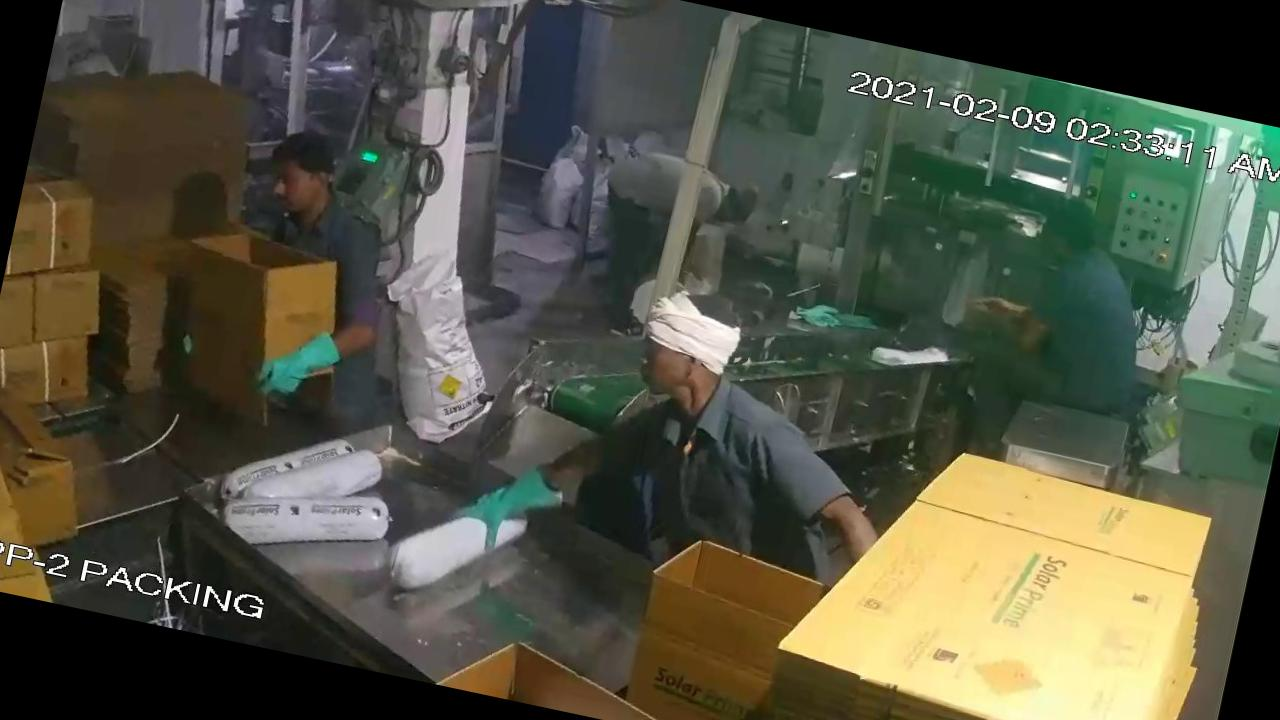Gloves: (429, 437, 586, 581), (235, 302, 358, 413)
No-gloves: (944, 274, 1068, 373)
